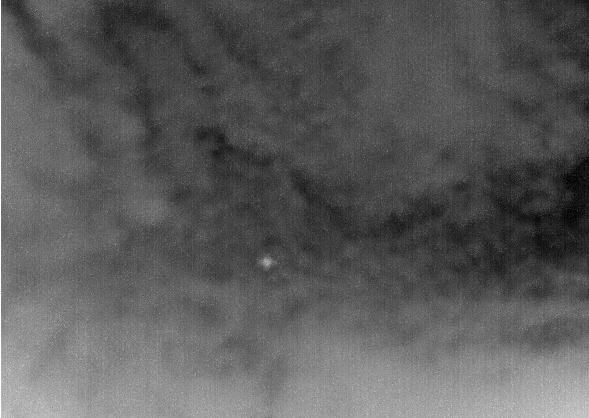dim target: (259, 254, 273, 271)
